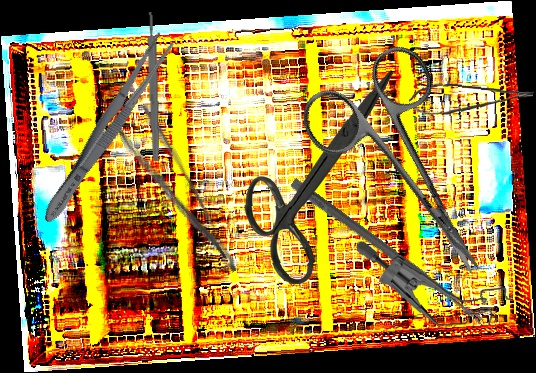Dressing Forceps: (35, 29, 179, 229), (111, 102, 242, 289)
Iris Scissors: (290, 36, 531, 310), (242, 69, 395, 286)
Micro Scissor: (408, 80, 534, 122)
Scalpel Handle: (146, 11, 161, 162)
Speculum: (356, 234, 514, 332)
Surgical Spoon: (288, 178, 487, 326)
